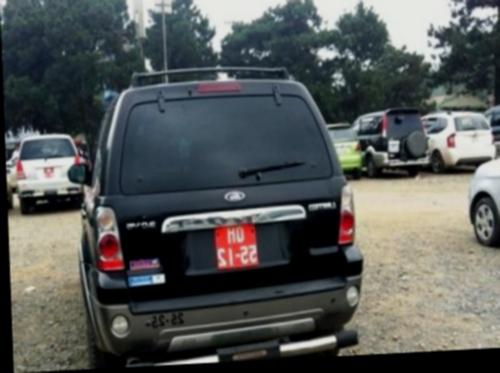License_Plate: (208, 221, 260, 271)
